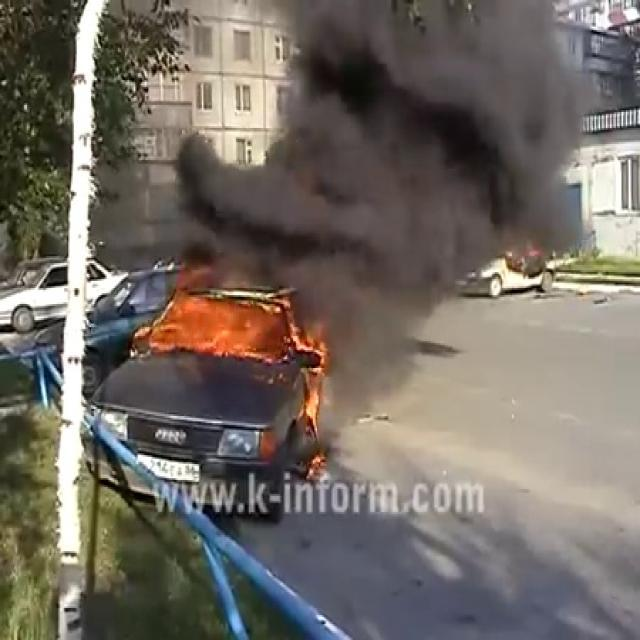Fire: (144, 282, 332, 432), (286, 312, 336, 444)
Smoke: (164, 0, 601, 288)
